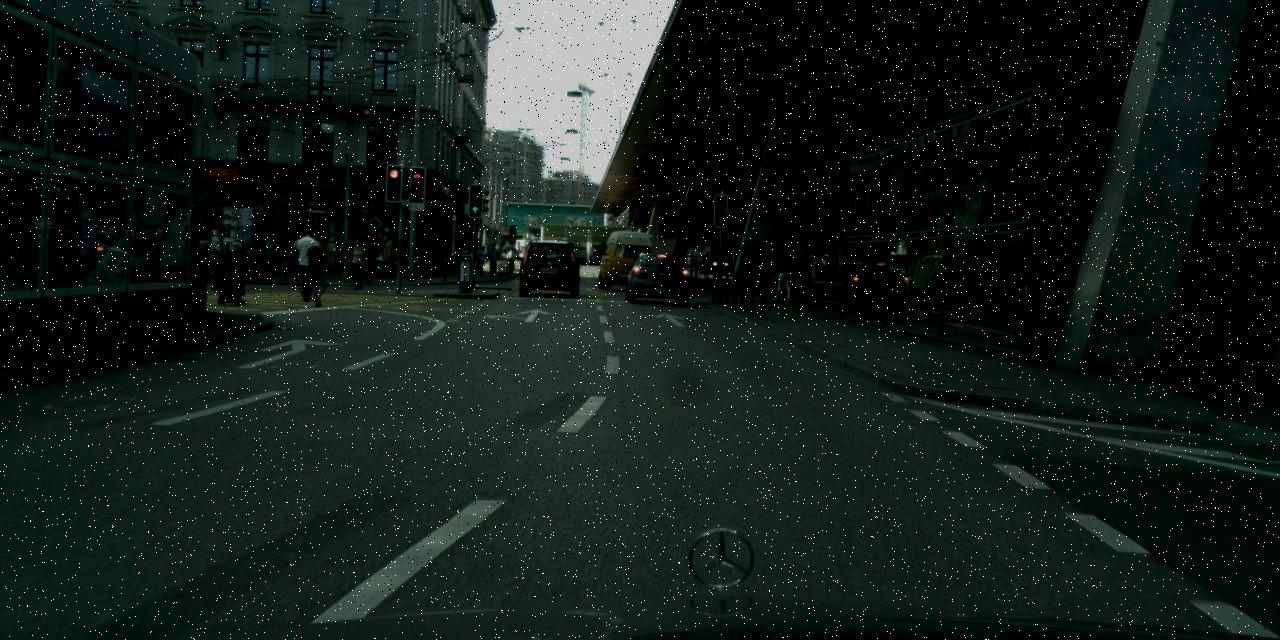ped: (293, 228, 323, 300), (305, 236, 333, 305), (220, 241, 246, 304), (366, 228, 398, 278), (790, 244, 814, 294), (772, 248, 793, 300), (347, 238, 367, 289), (477, 245, 500, 278), (459, 242, 470, 272), (701, 251, 712, 278), (771, 247, 789, 263)
